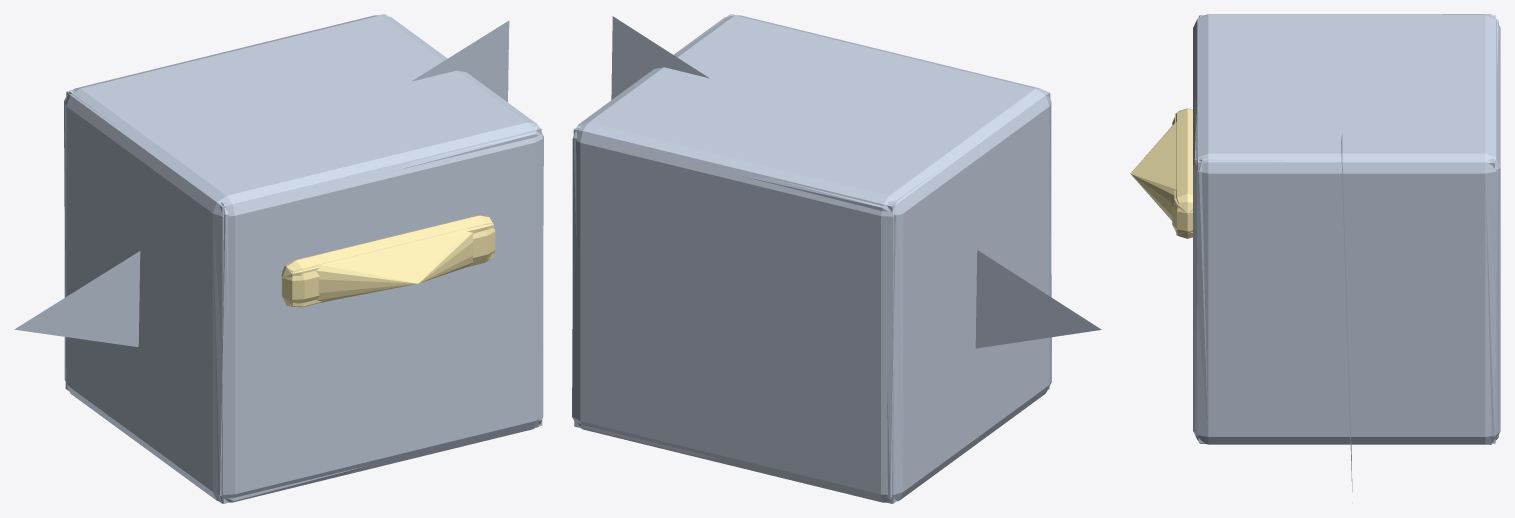
File: SM_Tank.fbx
The picture shows the model from 3 angles, left to right: view 1: azimuth 30°, elevation 25°; view 2: azimuth 150°, elevation 25°; view 3: azimuth 270°, elevation 25°; orthographic projection. The views are drawn at different scales.
Parts seen in each view (by area): view 1: SM_Tank, LOD3_SM_Tank, LOD2_SM_Tank, LOD1_SM_Tank; view 2: SM_Tank, LOD3_SM_Tank, LOD1_SM_Tank; view 3: SM_Tank, LOD1_SM_Tank, LOD2_SM_Tank, LOD3_SM_Tank.
Part boxes in pixels (bbox=[...]): SM_Tank: bbox=[64, 15, 543, 502]; LOD3_SM_Tank: bbox=[14, 20, 509, 347]; LOD2_SM_Tank: bbox=[65, 14, 542, 503]; LOD1_SM_Tank: bbox=[64, 14, 543, 503]; SM_Tank: bbox=[572, 15, 1051, 502]; LOD3_SM_Tank: bbox=[611, 16, 1101, 348]; LOD1_SM_Tank: bbox=[572, 14, 1051, 503]; SM_Tank: bbox=[1172, 14, 1500, 444]; LOD1_SM_Tank: bbox=[1174, 14, 1498, 444]; LOD2_SM_Tank: bbox=[1130, 15, 1495, 443]; LOD3_SM_Tank: bbox=[1341, 133, 1352, 502].
Bounding box in the file's own units: 0.4402 × 0.3272 × 0.3033.
